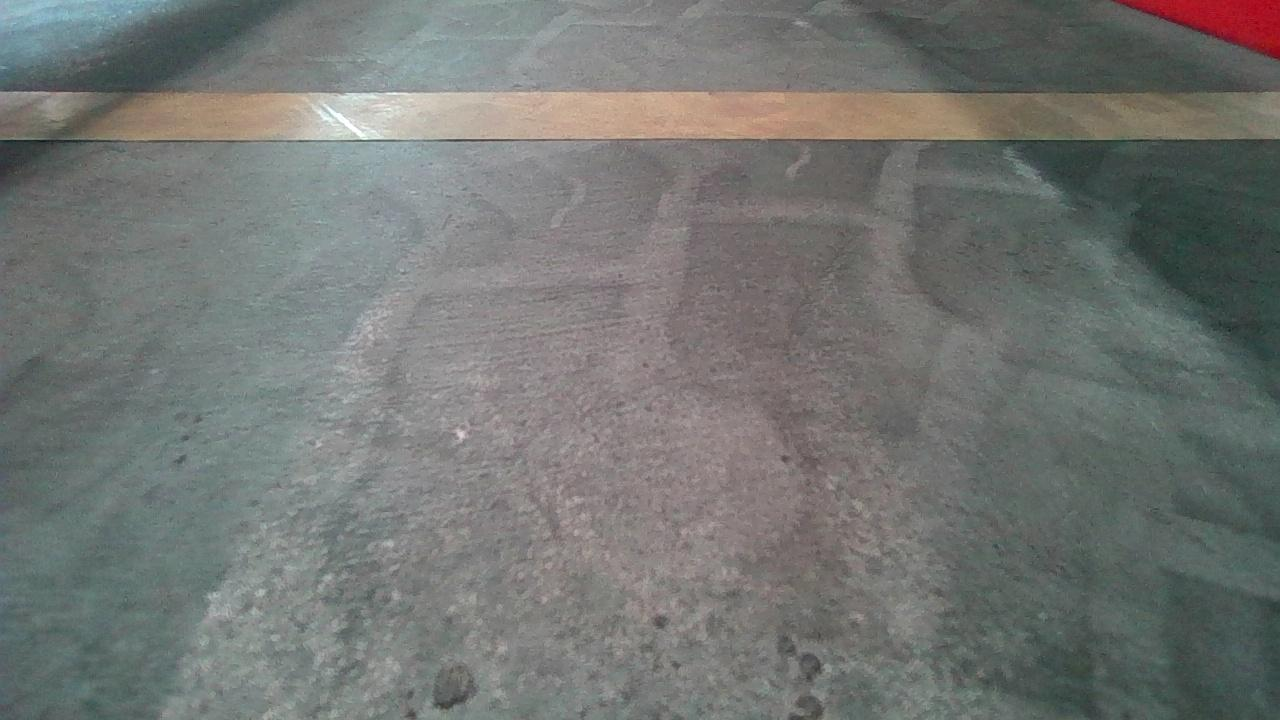yellow_line: (6, 79, 1280, 144)
